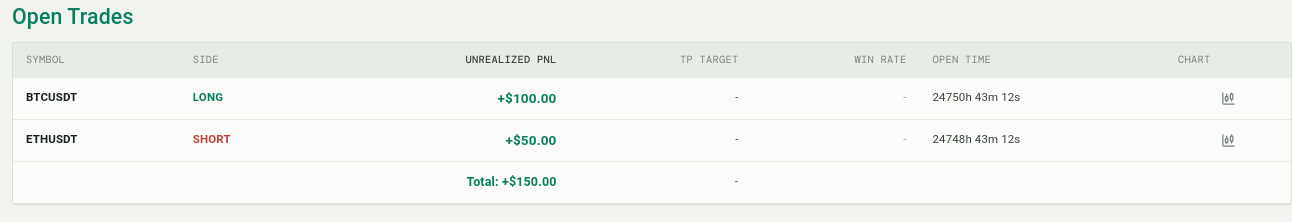
Scenario: OperationsTable › handles sorting with unrealized profit for open trades
This screenshot has width=1292, height=222.
Note: Probar ordenamiento por PnL en open trades
Click the column heading "Unrealized PnL": (444, 60) [318,43,570,77]
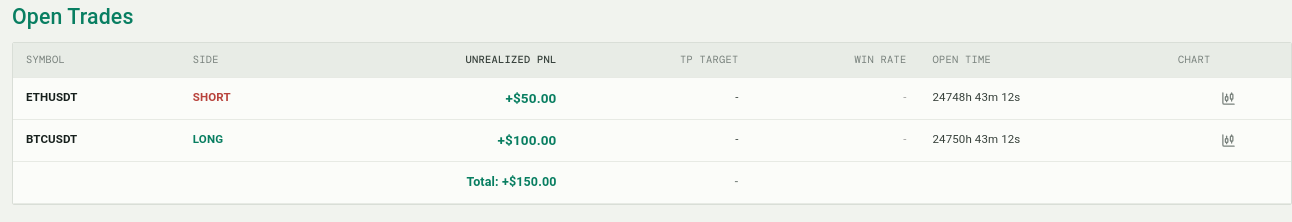
Check: the text "BTCUSDT" is shown, box [13,119,180,161]
Check: the text "ETHUSDT" is shown, box [13,77,180,119]
